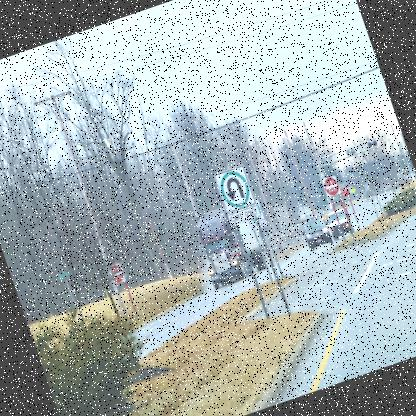Car: (300, 216, 334, 253), (327, 208, 354, 239)
